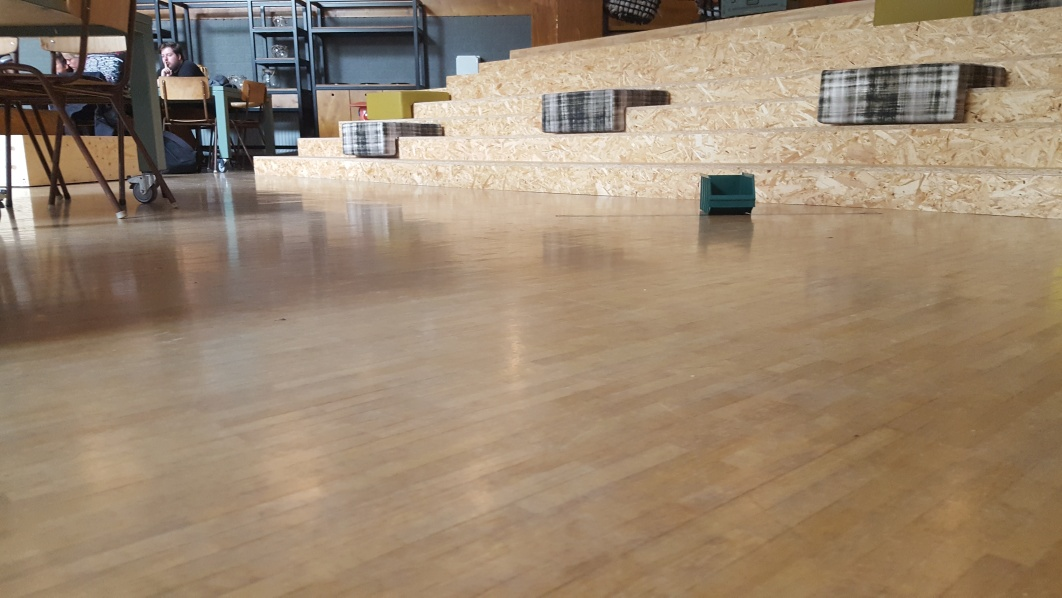tray: (698, 172, 758, 214)
